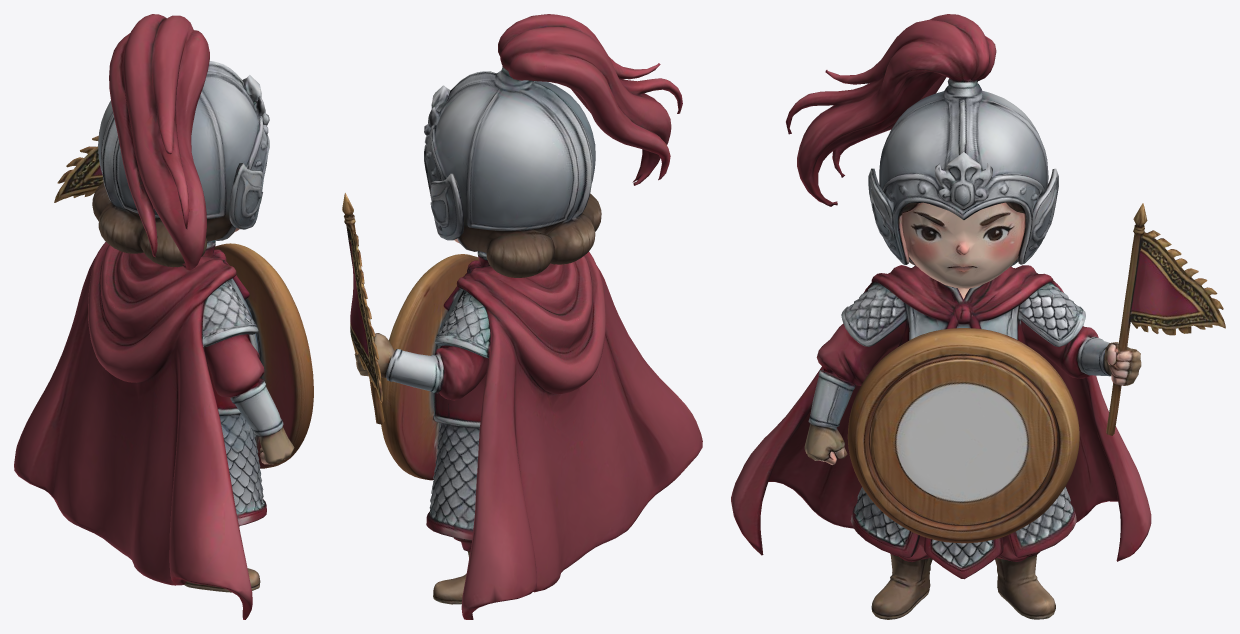
Rendered from n_w10_general.glb.
3 views of the same model, side by side, from view 1: azimuth 30°, elevation 25°; view 2: azimuth 150°, elevation 25°; view 3: azimuth 270°, elevation 25° (orthographic).
Visible parts, largest first — view 1: tripo_node_cc128538-4b0e-45c1-bc33-406b7cd8a8c4; view 2: tripo_node_cc128538-4b0e-45c1-bc33-406b7cd8a8c4; view 3: tripo_node_cc128538-4b0e-45c1-bc33-406b7cd8a8c4.
Boxes of the visible parts, x1,y1,x2,y2 form: tripo_node_cc128538-4b0e-45c1-bc33-406b7cd8a8c4: (14, 14, 313, 619); tripo_node_cc128538-4b0e-45c1-bc33-406b7cd8a8c4: (342, 14, 702, 619); tripo_node_cc128538-4b0e-45c1-bc33-406b7cd8a8c4: (731, 14, 1225, 619).
Bounding box in the file's own units: 0.3281 × 0.9799 × 0.774.
Materials: 1 (1 with a texture image).
